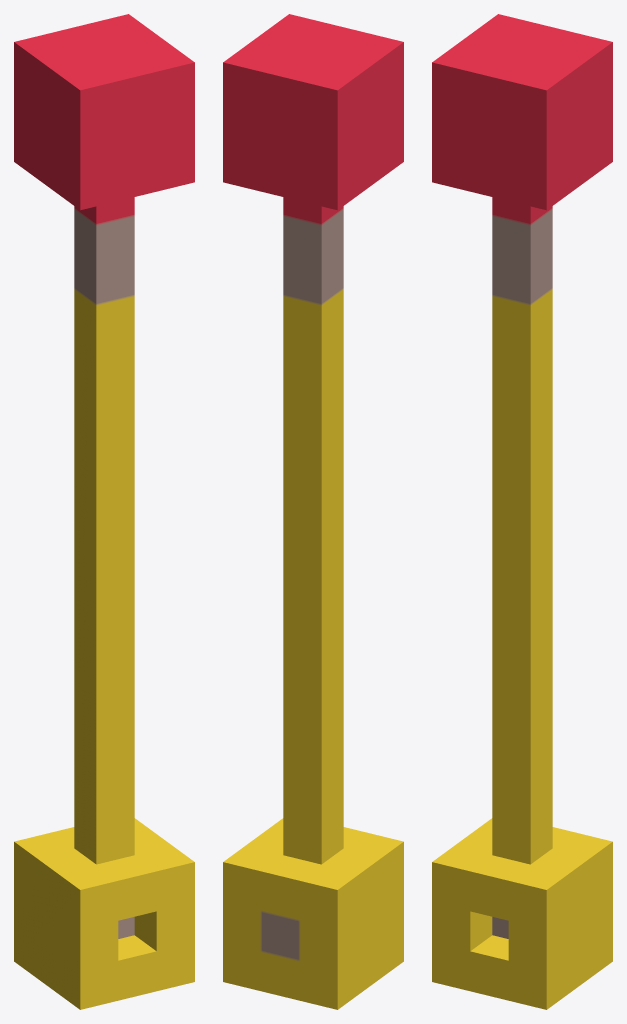
Rendered from prize_machine_handle.obj.
3 renders of one model, left to right at view 1: azimuth 30°, elevation 25°; view 2: azimuth 150°, elevation 25°; view 3: azimuth 330°, elevation 25°, orthographic.
Parts seen in each view (by area): view 1: prize_machine_handle; view 2: prize_machine_handle; view 3: prize_machine_handle.
Part boxes in pixels (x1,y1,x2,y2): prize_machine_handle: (14,14,194,1009); prize_machine_handle: (223,14,403,1009); prize_machine_handle: (432,14,612,1009).
Size of the model in its own units: 0.48 by 3.68 by 0.48.
Materials: 1 (1 with a texture image).
